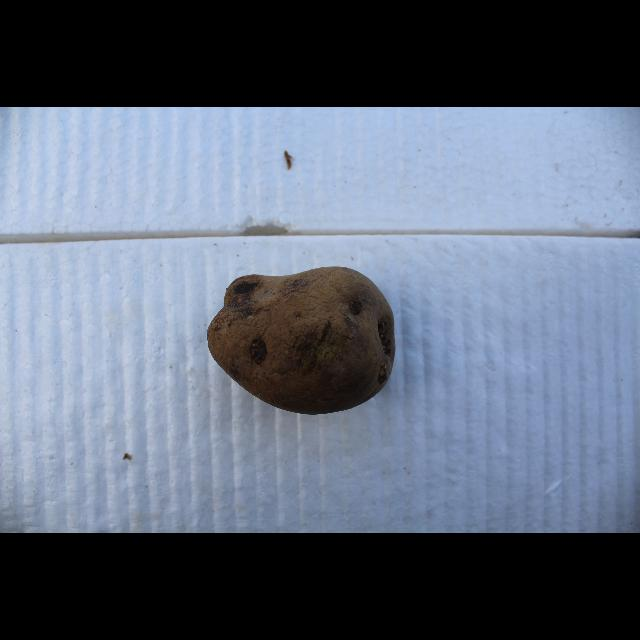Diseased-fungal potato: (206, 259, 402, 416)
